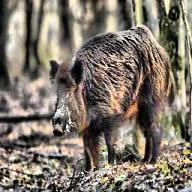boar: (48, 24, 175, 172)
